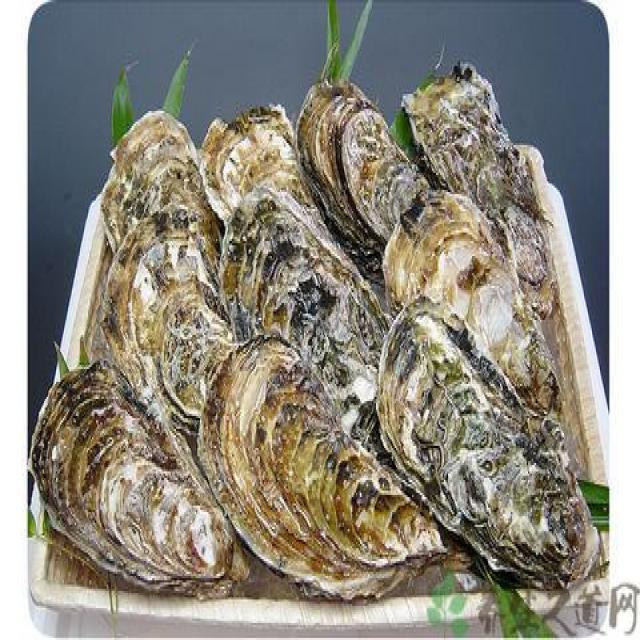Oyster- Indeterminate: (377, 292, 602, 592), (200, 329, 445, 598), (28, 358, 239, 589), (221, 188, 390, 430), (384, 190, 562, 410), (406, 58, 558, 307), (100, 202, 232, 465), (290, 74, 430, 291), (98, 113, 226, 268), (204, 99, 322, 222)
